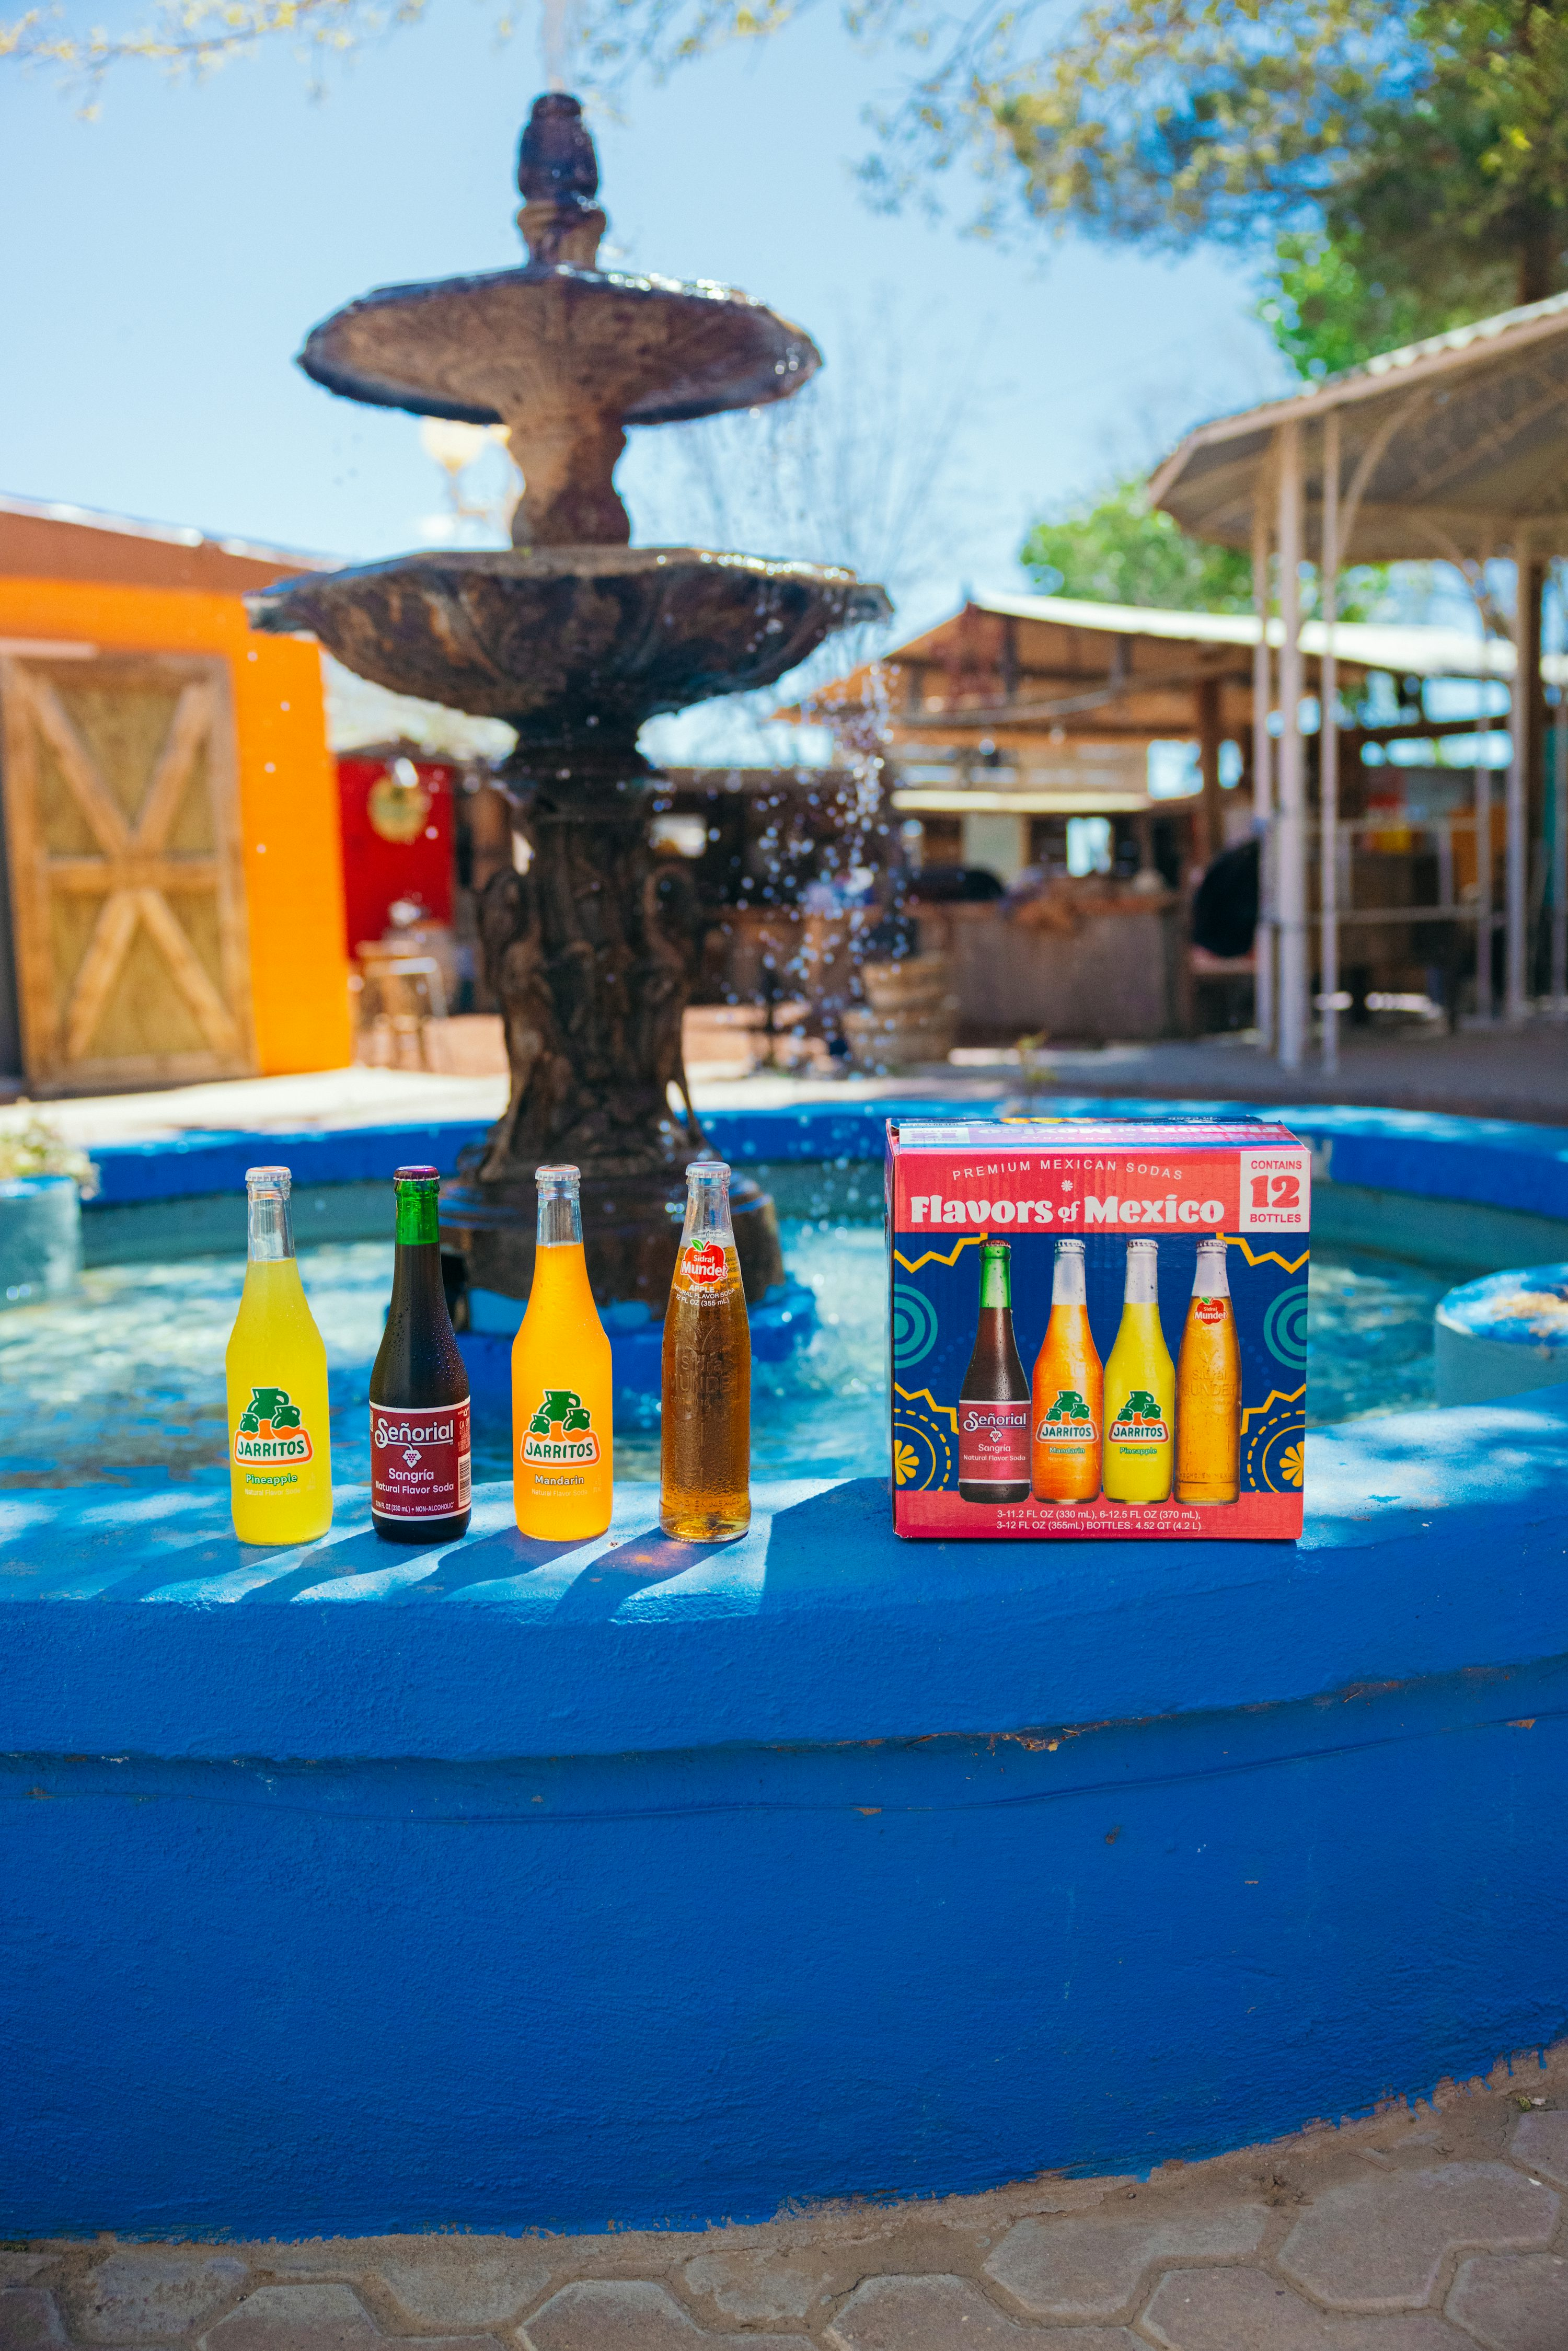glass_bottle: (934, 1231, 1267, 1511), (184, 1146, 350, 1559), (637, 1153, 779, 1566), (359, 1162, 485, 1560), (500, 1158, 625, 1559)
